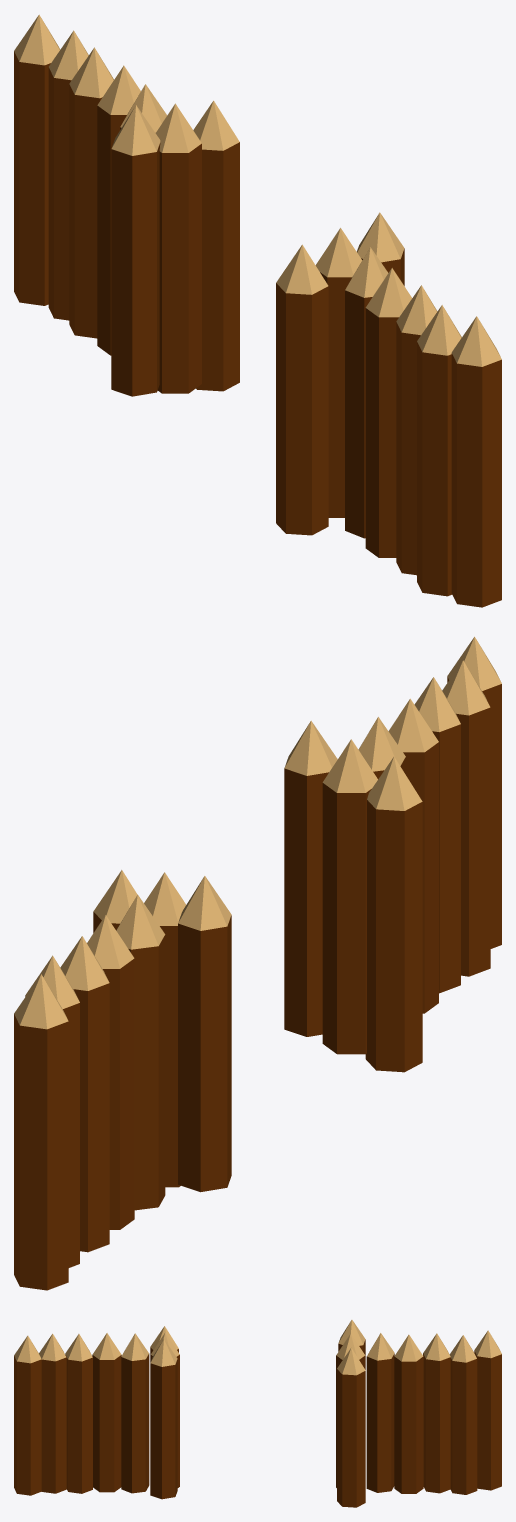
Rendered from LoFi_VillageGate.fbx.
3 renders of one model, top to bottom at view 1: azimuth 30°, elevation 25°; view 2: azimuth 150°, elevation 25°; view 3: azimuth 270°, elevation 25°, orthographic. The views are drawn at different scales.
Parts seen in each view (by area): view 1: Cone.009, Cone.007, Cone.003, Cone.014, Cone.004, Cone.006, Cone.008, Cone.012, Cone.002, Cone.005, Cone.013, Cone.011 (+4 smaller); view 2: Cone.009, Cone.006, Cone.003, Cone.015, Cone.010, Cone.000, Cone.002, Cone.008, Cone.001, Cone.011, Cone.012, Cone.014 (+4 smaller); view 3: Cone.001, Cone.012, Cone.004, Cone.013, Cone.000, Cone.010, Cone.007, Cone.002, Cone.005, Cone.011, Cone.008, Cone.006 (+4 smaller).
Boxes of the visible parts, x1,y1,x2,y2 form: Cone.009: (276, 244, 328, 535); Cone.007: (451, 316, 501, 607); Cone.003: (111, 105, 160, 396); Cone.014: (155, 103, 201, 393); Cone.004: (193, 100, 239, 391); Cone.006: (14, 14, 60, 305); Cone.008: (417, 305, 461, 596); Cone.012: (365, 268, 412, 557); Cone.002: (69, 47, 113, 338); Cone.005: (48, 30, 88, 320); Cone.013: (345, 247, 388, 538); Cone.011: (396, 285, 437, 575); Cone.009: (365, 756, 422, 1072); Cone.006: (14, 974, 68, 1290); Cone.003: (178, 876, 231, 1192); Cone.015: (322, 739, 377, 1054); Cone.010: (284, 720, 337, 1036); Cone.000: (116, 894, 165, 1210); Cone.002: (60, 936, 109, 1252); Cone.008: (442, 660, 490, 976); Cone.001: (87, 915, 134, 1229); Cone.011: (414, 677, 460, 993); Cone.012: (388, 698, 438, 1013); Cone.014: (144, 872, 185, 1187); Cone.001: (394, 1334, 423, 1493); Cone.012: (92, 1333, 121, 1492); Cone.004: (337, 1347, 365, 1507); Cone.013: (121, 1333, 149, 1493); Cone.000: (366, 1333, 394, 1492); Cone.010: (150, 1339, 177, 1499); Cone.007: (14, 1335, 41, 1495); Cone.002: (423, 1333, 450, 1493); Cone.005: (449, 1335, 477, 1494); Cone.011: (65, 1334, 92, 1493); Cone.008: (39, 1333, 66, 1493); Cone.006: (474, 1330, 501, 1490).
Bounding box in the file's own units: 162 × 367 × 1003.
